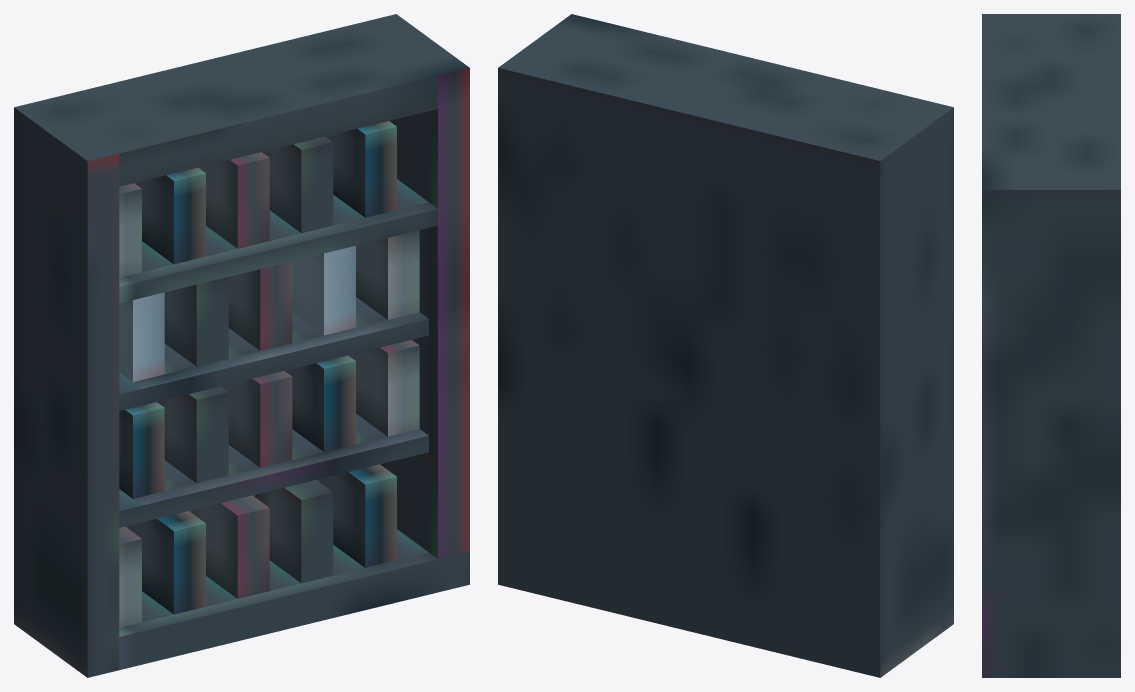
Rendered from Shelf_00.fbx.
The picture shows the model from 3 angles, left to right: view 1: azimuth 30°, elevation 25°; view 2: azimuth 150°, elevation 25°; view 3: azimuth 270°, elevation 25°; orthographic projection. The views are drawn at different scales.
Parts seen in each view (by area): view 1: Shelf_00; view 2: Shelf_00; view 3: Shelf_00.
Part boxes in pixels (x1,y1,x2,y2): Shelf_00: (14,14,469,677); Shelf_00: (498,14,953,677); Shelf_00: (982,14,1120,677).
Size of the model in its own units: 120 by 155 by 40.
